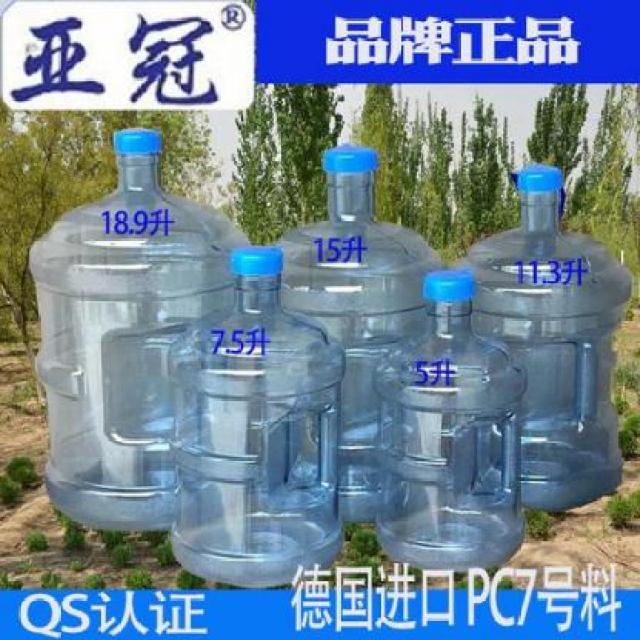coolerbottle: (23, 124, 261, 530), (264, 141, 443, 527), (450, 156, 634, 516), (163, 243, 345, 592), (368, 270, 529, 578)
